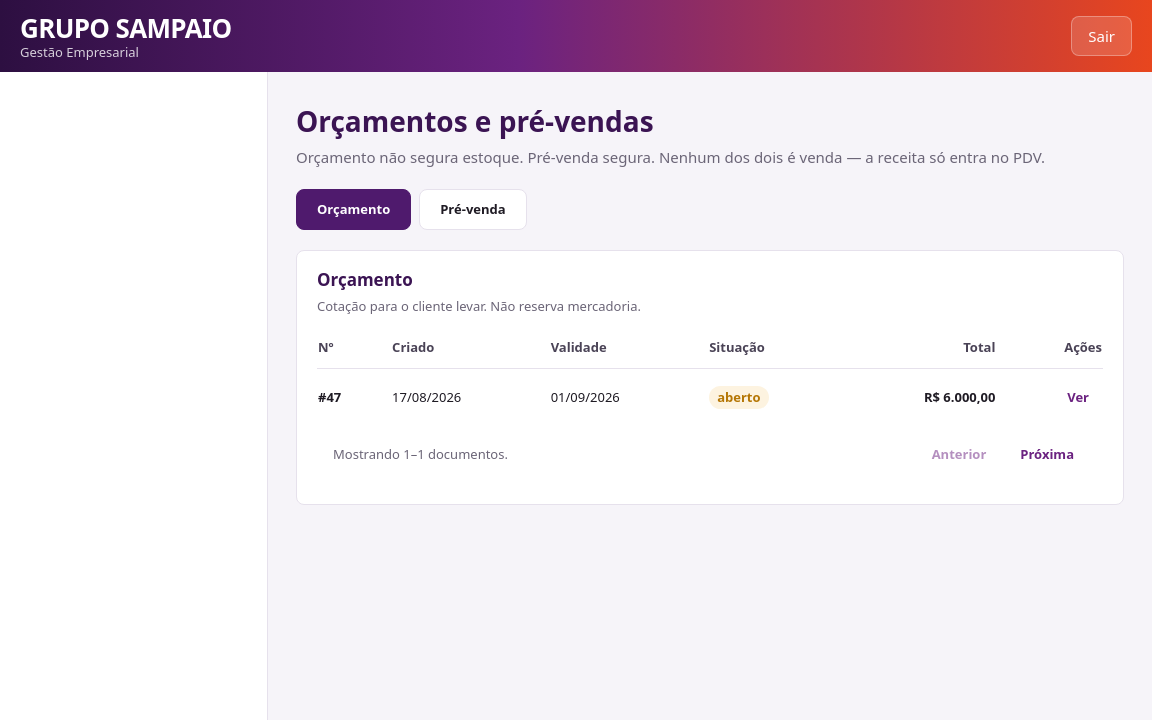
Test: o detalhe do documento mostra quem liberou o desconto › com liberação, o NOME do gestor aparece na tela
The image size is (1152, 720).
Click the button "Ver" at (1078, 397), box top-left (1054, 380), bottom-right (1102, 414)
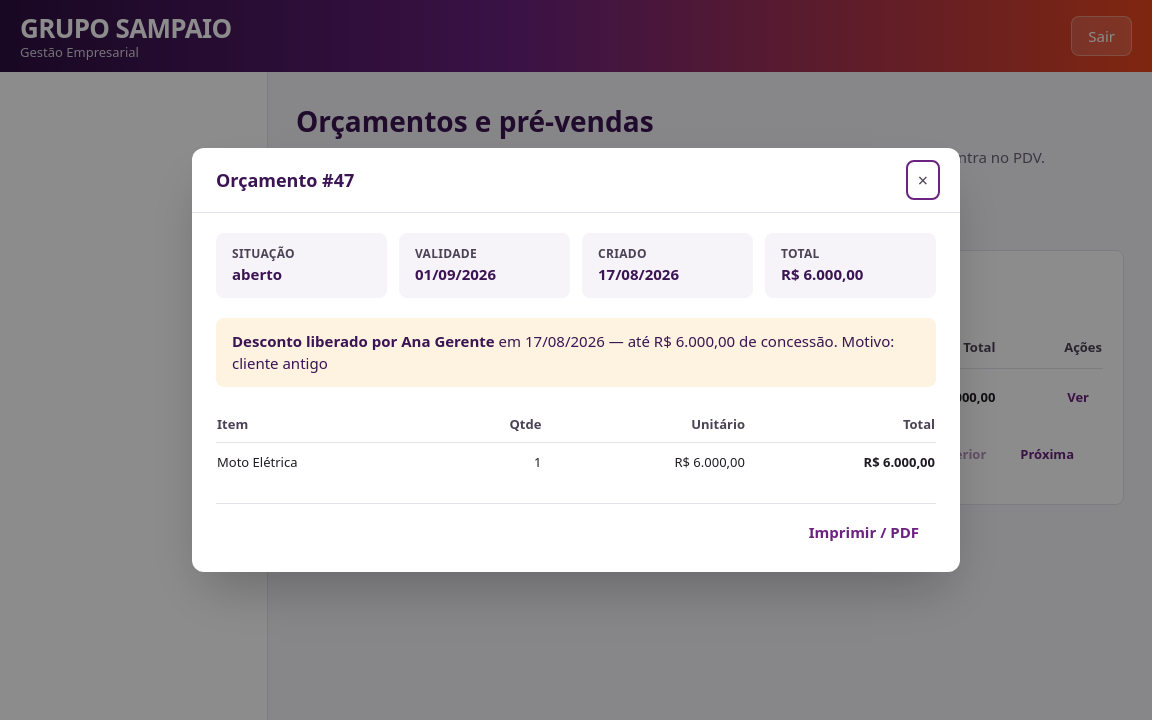
Now the text "Desconto liberado por Ana Gerente" is shown, box top-left (232, 330), bottom-right (495, 350)
Now the text "6.000,00 de concessão" is shown, box top-left (605, 330), bottom-right (834, 350)
Now the text "cliente antigo" is shown, box top-left (232, 330), bottom-right (894, 373)
